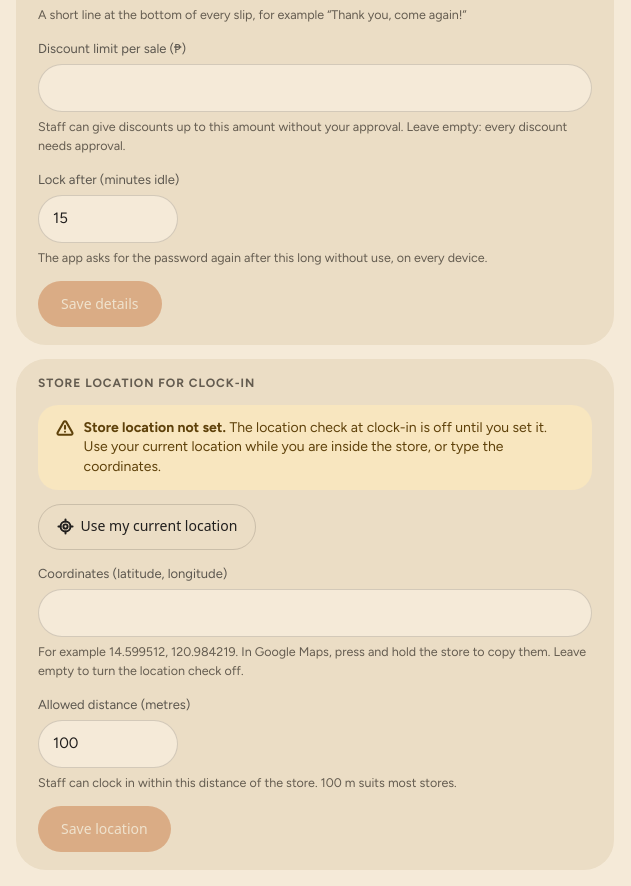
Settings > Store (SYS-01) › explains a refused location permission
The image size is (631, 886).
(page scrolled)
Click the button "Use my current location" at (147, 527), box [38,504,256,550]
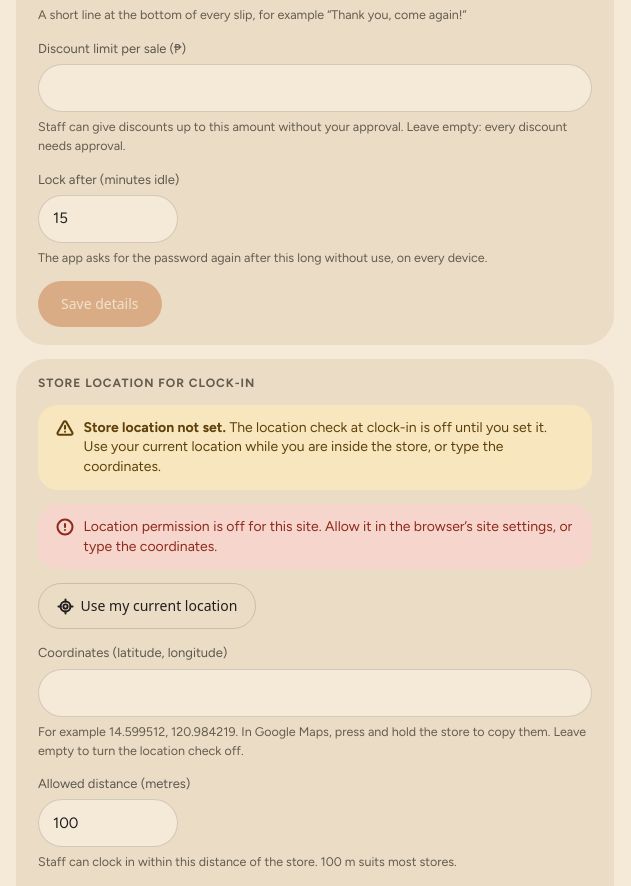
Check: the text "Location permission is off for this site" is shown, box [84,518,572,555]
